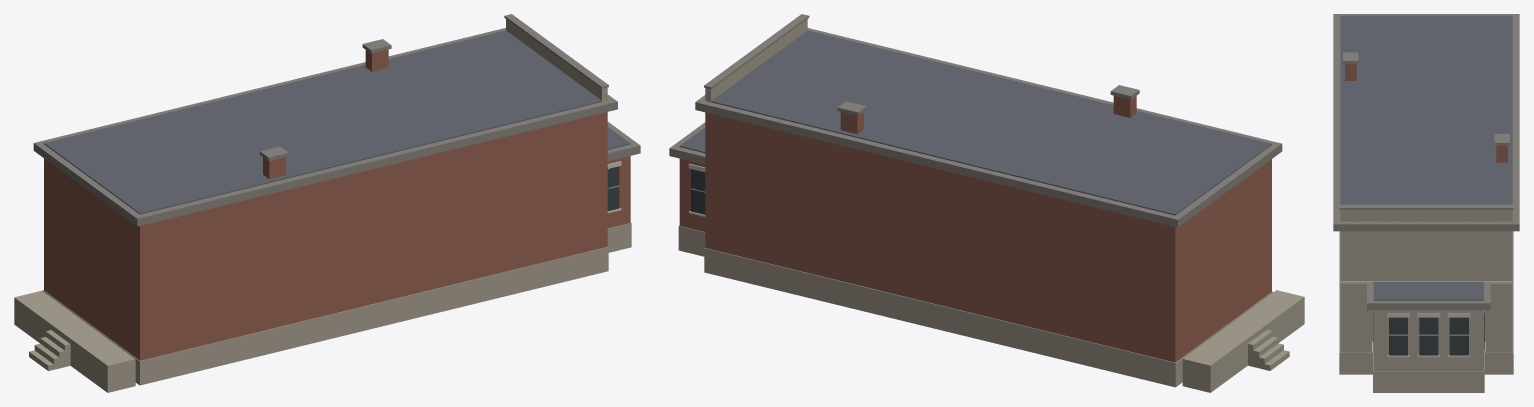
The model's file is house_1821_indiana__draft_1904.glb.
3 renders of one model, left to right at view 1: azimuth 30°, elevation 25°; view 2: azimuth 150°, elevation 25°; view 3: azimuth 270°, elevation 25°, orthographic. The views are drawn at different scales.
Visible parts, largest first — view 1: house_1821_indiana__draft_1904; view 2: house_1821_indiana__draft_1904; view 3: house_1821_indiana__draft_1904.
Part boxes in pixels (x1=…): house_1821_indiana__draft_1904: x1=14, y1=14, x2=640, y2=392; house_1821_indiana__draft_1904: x1=669, y1=14, x2=1304, y2=392; house_1821_indiana__draft_1904: x1=1333, y1=14, x2=1519, y2=392.
Bounding box in the file's own units: 30.8 × 10.04 × 9.7.
